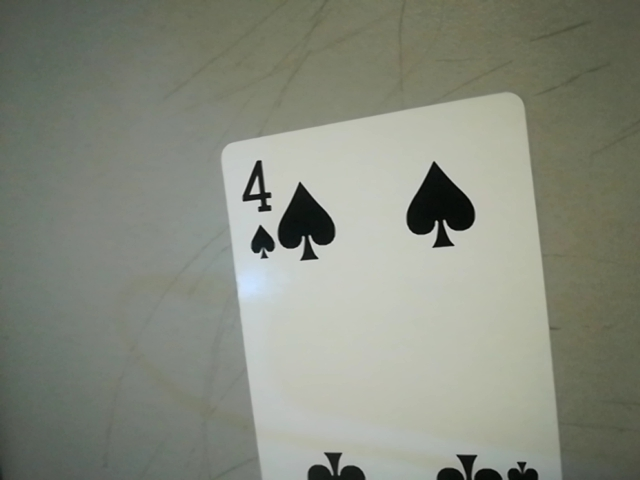ht 4: (227, 153, 280, 267)
